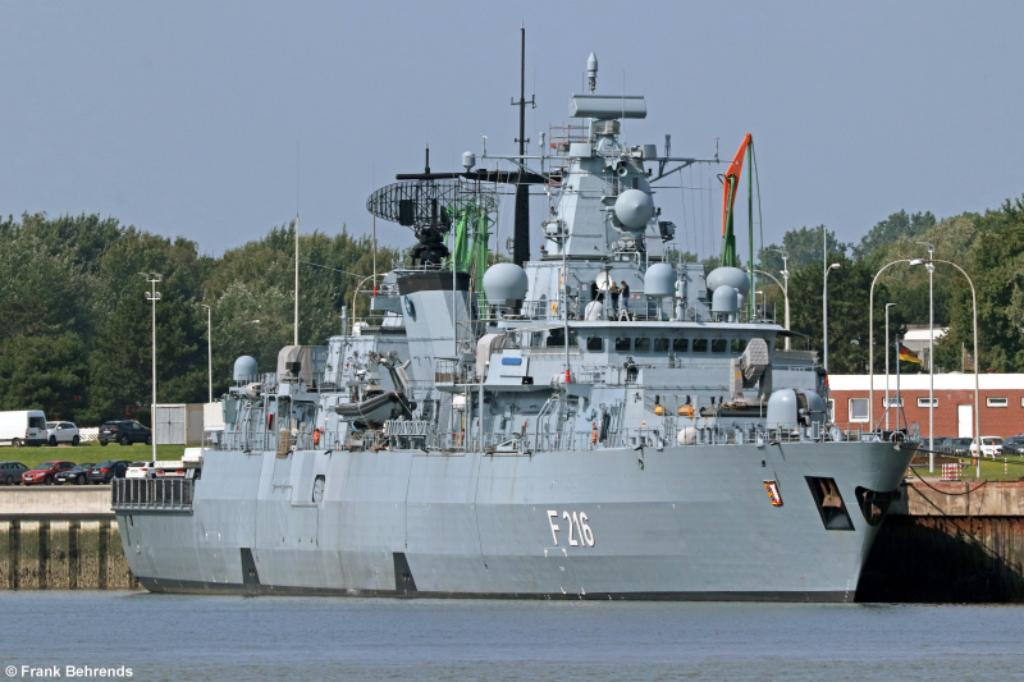Warship: (110, 42, 924, 610)
